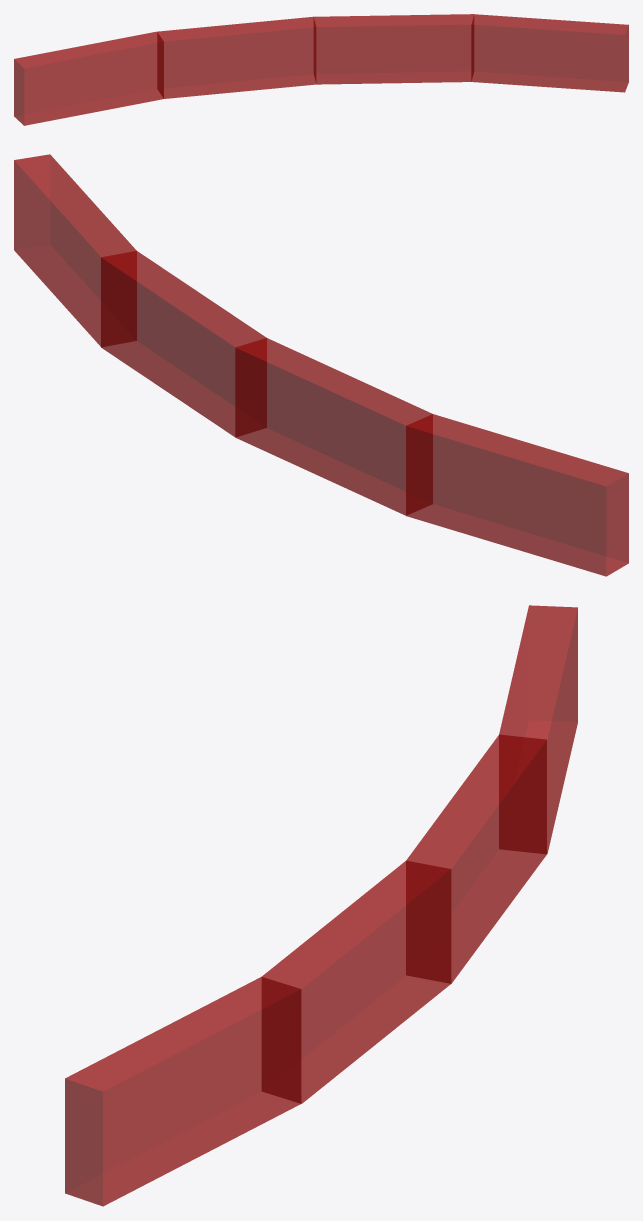
File: SM_Prop_Barrier_Rail_Bend_04_Collision.fbx
3 renders of one model, top to bottom at view 1: azimuth 30°, elevation 25°; view 2: azimuth 150°, elevation 25°; view 3: azimuth 270°, elevation 25°, orthographic. The views are drawn at different scales.
Visible parts, largest first — view 1: SM_Prop_Barrier_Rail_Bend_04_Collision; view 2: SM_Prop_Barrier_Rail_Bend_04_Collision; view 3: SM_Prop_Barrier_Rail_Bend_04_Collision.
Part boxes in pixels (x1,y1,x2,y2): SM_Prop_Barrier_Rail_Bend_04_Collision: (14,14,628,125); SM_Prop_Barrier_Rail_Bend_04_Collision: (14,154,628,576); SM_Prop_Barrier_Rail_Bend_04_Collision: (65,605,577,1206).
Size of the model in its own units: 994 by 109 by 443.
